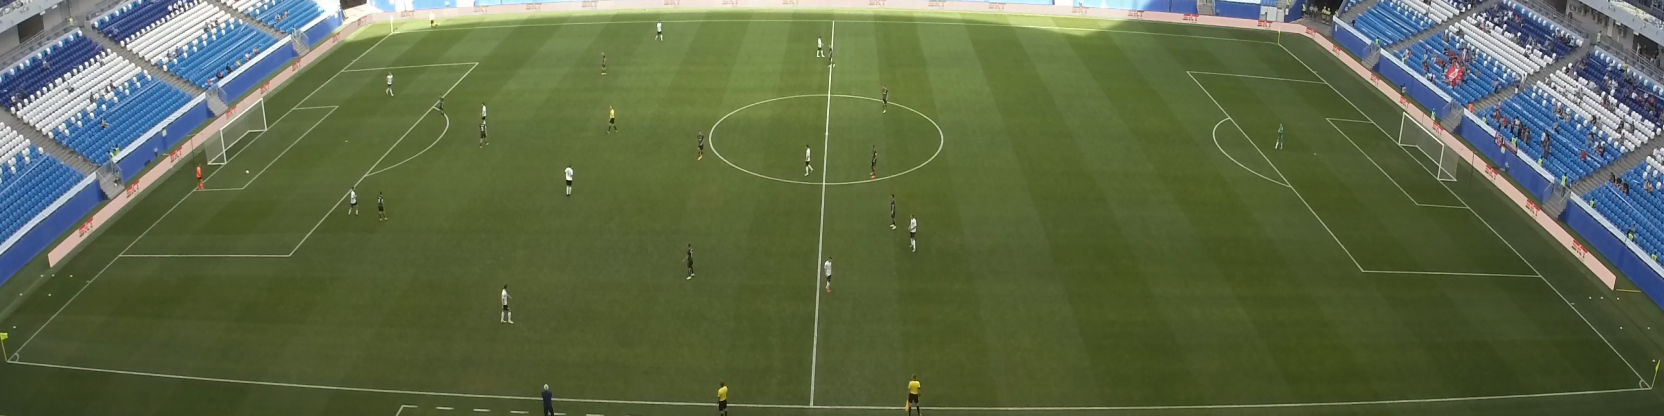black: (682, 242, 697, 283), (476, 117, 489, 150), (375, 189, 387, 222), (878, 83, 889, 115), (888, 191, 897, 232), (868, 142, 877, 181), (599, 48, 608, 77), (826, 41, 835, 68), (697, 131, 704, 160), (438, 96, 445, 119)
white: (499, 283, 513, 326), (905, 212, 918, 256), (562, 161, 576, 200), (824, 255, 834, 294), (802, 142, 813, 178), (346, 187, 358, 216), (382, 72, 395, 99), (653, 17, 664, 45), (813, 33, 825, 59), (478, 99, 486, 129)
